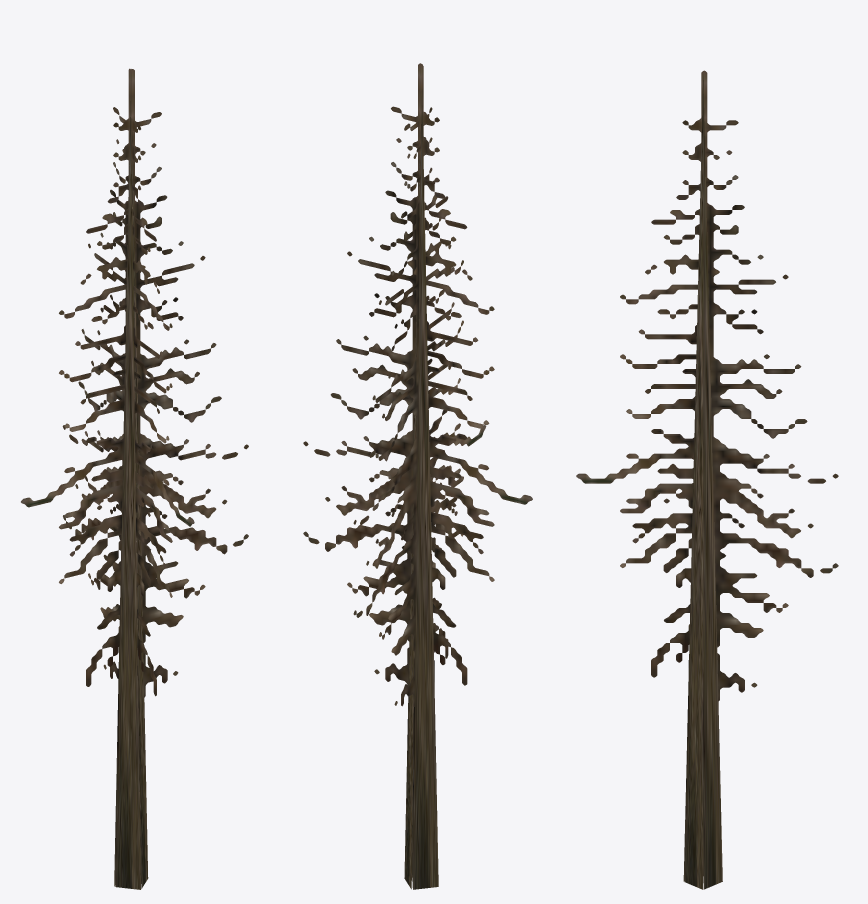
The model's file is pine3dead.glb.
3 renders of one model, left to right at view 1: azimuth 30°, elevation 25°; view 2: azimuth 150°, elevation 25°; view 3: azimuth 270°, elevation 25°, orthographic.
Visible parts, largest first — view 1: Pine3dead; view 2: Pine3dead; view 3: Pine3dead.
Part boxes in pixels (bbox=[...]): Pine3dead: bbox=[21, 68, 248, 889]; Pine3dead: bbox=[303, 63, 532, 889]; Pine3dead: bbox=[576, 70, 838, 889].
Bounding box in the file's own units: 6.52 × 20.49 × 6.52.
1 material, 1 textured.
